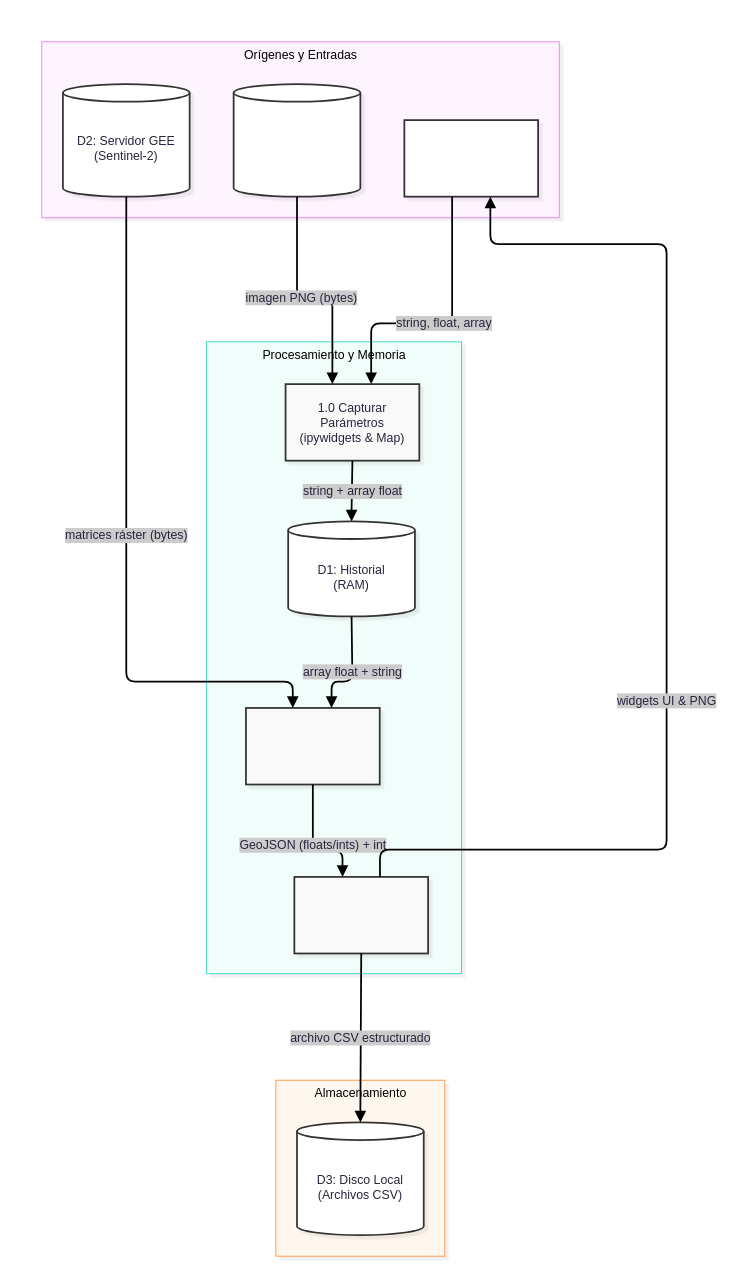
This 730x1275 diagram has some shape labels left out. Each missing label, with the centre of its shape:
2.0 Procesar Cloud (EE: Clip, Sample): (314,747)
3.0 Consolidar Datos (Pandas DataFrame): (362,916)
D4: OpenStreetMap (Mapas Base): (298,142)
E1: Usuario (Jupyter Notebook): (472,160)
